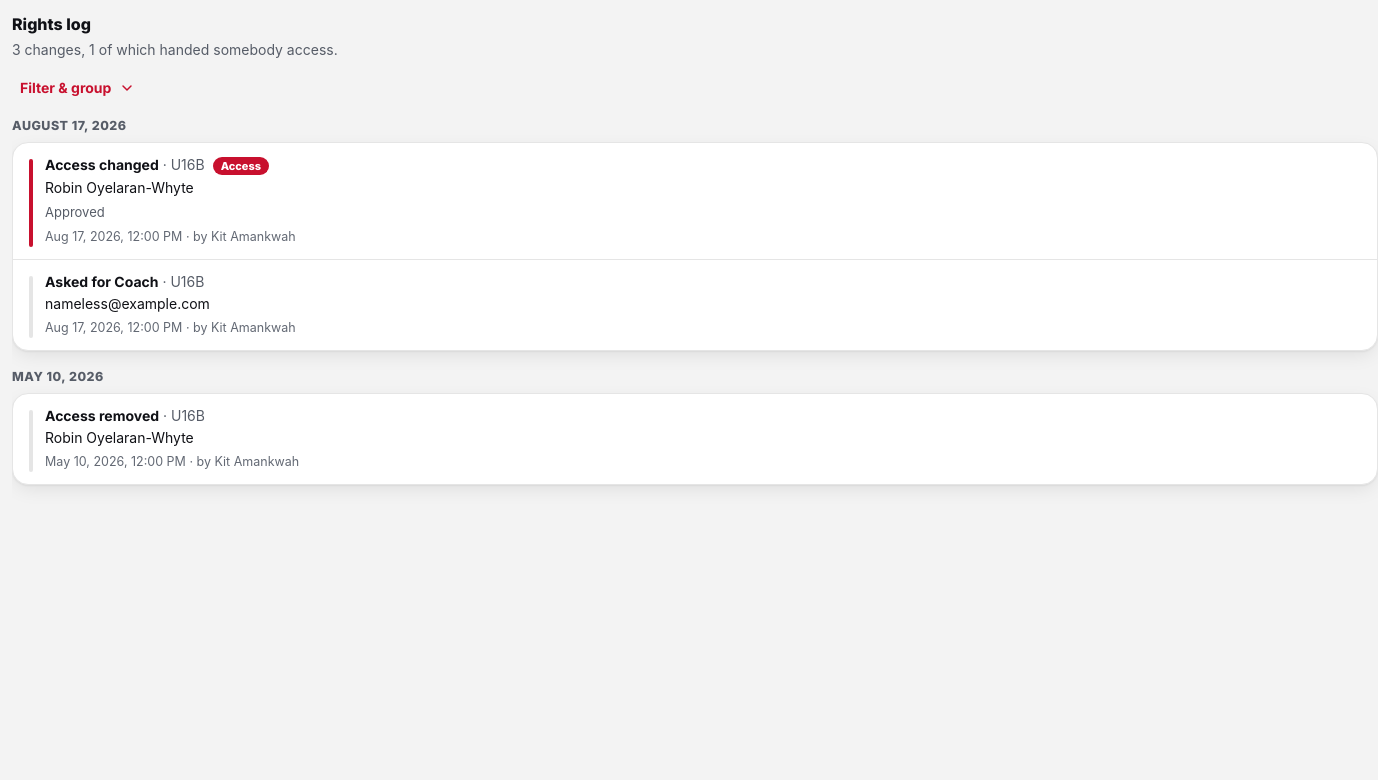
AdminRightsLog — filtering and grouping the window › ⚠️ access-grants-only hides everything that did not hand over access
The width and height of the screenshot is (1378, 780).
Click the button with test id "audit-filter-toggle": (78, 88) left=12, top=72, right=143, bottom=104
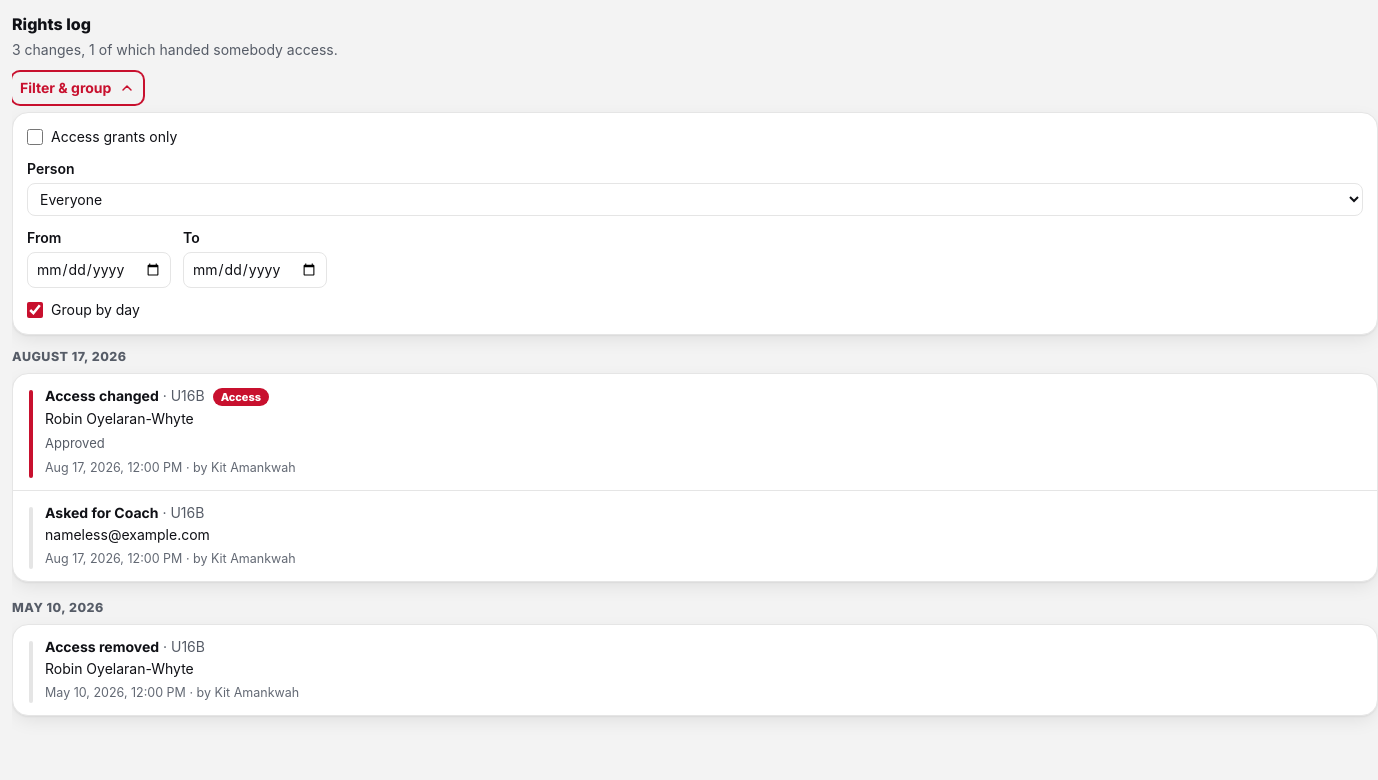
Click the checkbox with test id "filter-elevations": (35, 137) left=27, top=129, right=43, bottom=145
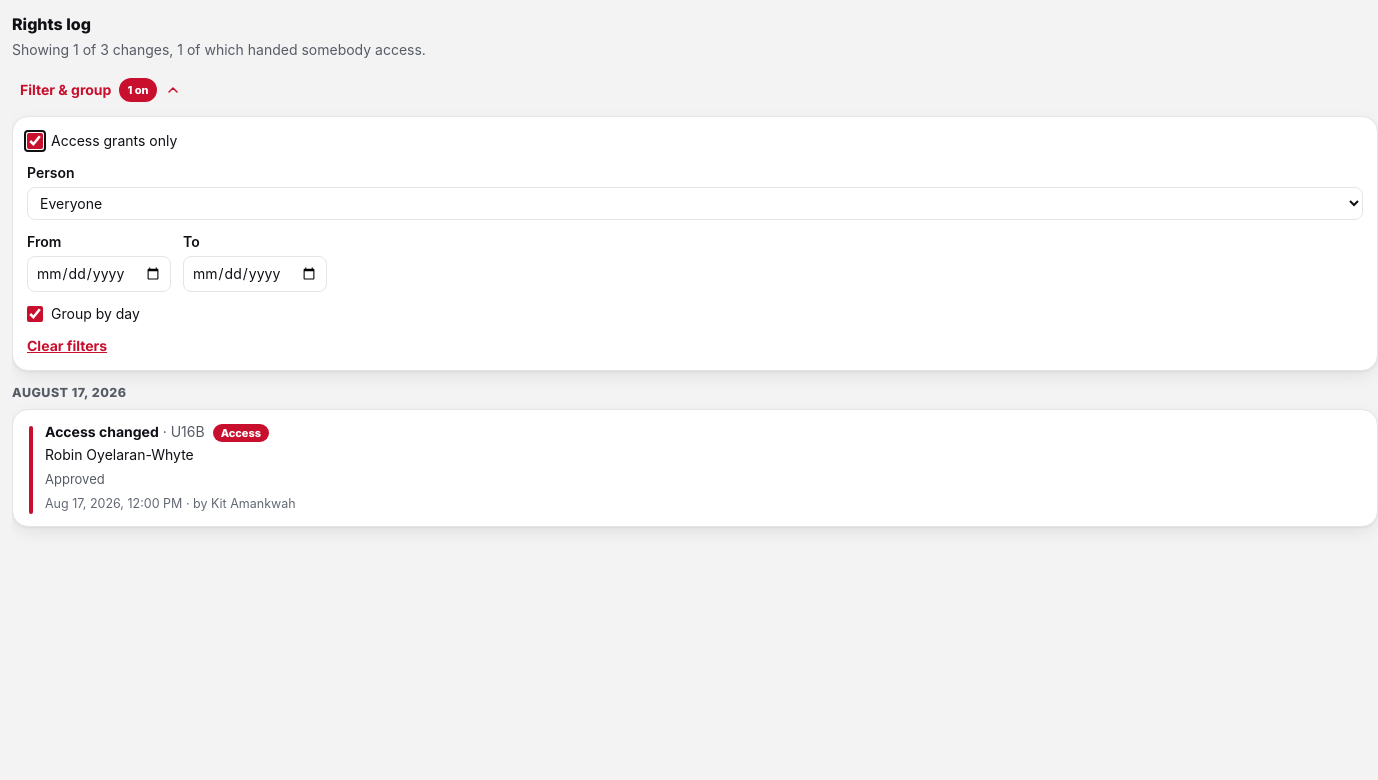
Check: the number of list items with test id "audit-entry" is 1, box left=29, top=423, right=296, bottom=514
Check: the text with test id "audit-summary" reads "Showing 1 of 3 changes, 1 of which handed somebody access.", box left=12, top=41, right=426, bottom=58
